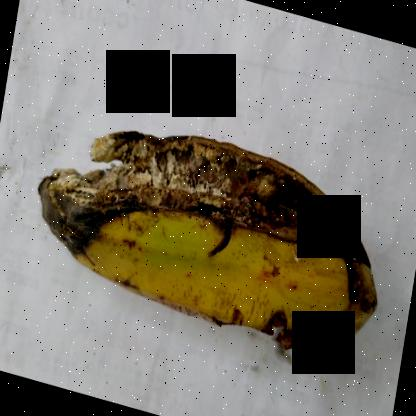rotten: (40, 87, 380, 341)
